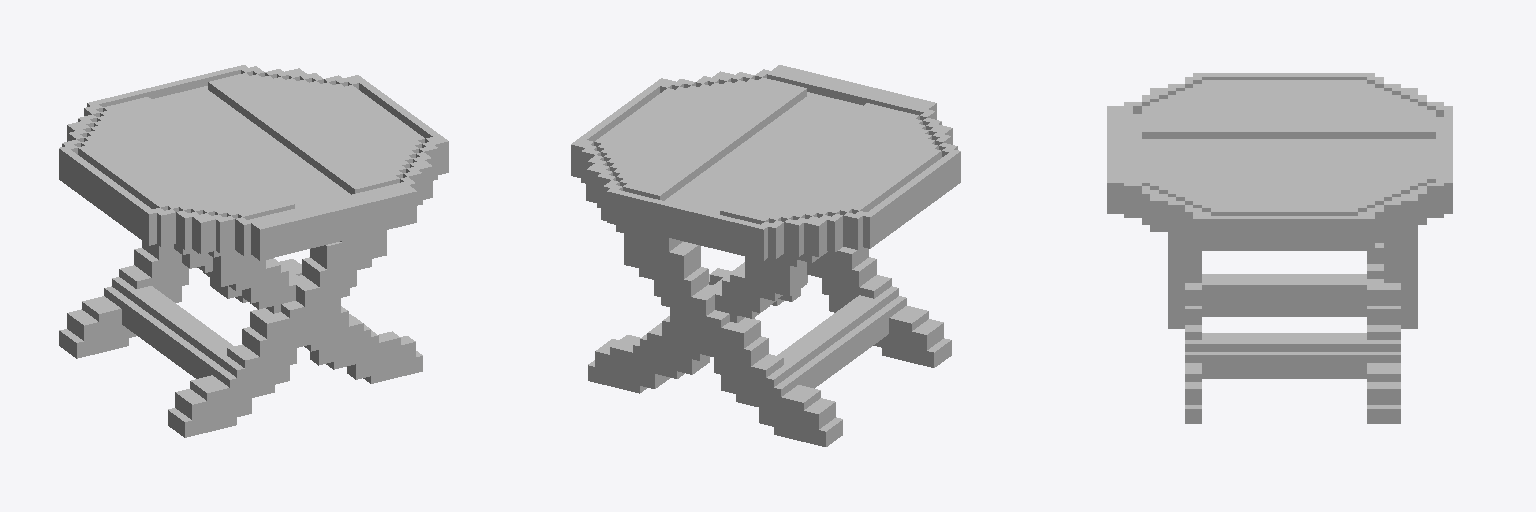
The model's file is bar table.obj.
The picture shows the model from 3 angles: view 1: azimuth 30°, elevation 25°; view 2: azimuth 150°, elevation 25°; view 3: azimuth 270°, elevation 25°; orthographic projection.
Size of the model in its own units: 40 by 28 by 40.